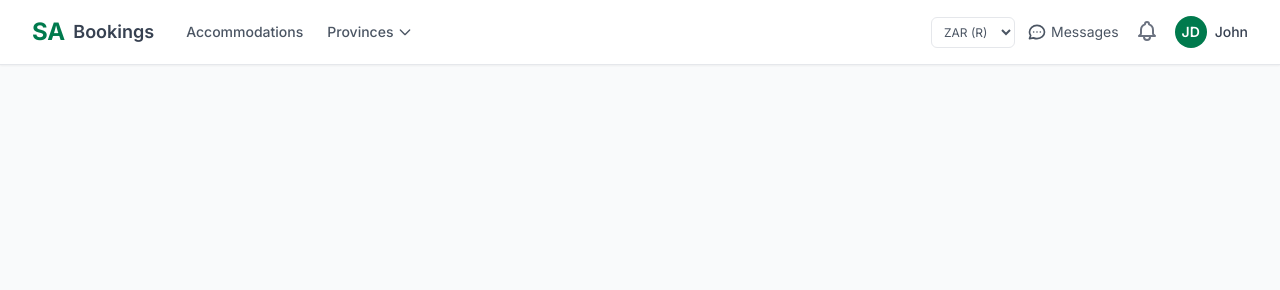
Scenario: Header › should toggle dropdown when avatar is clicked
Check: the text "Dashboard" is not shown
Click the button "JD John" at (1211, 32), box [1175,16,1248,48]
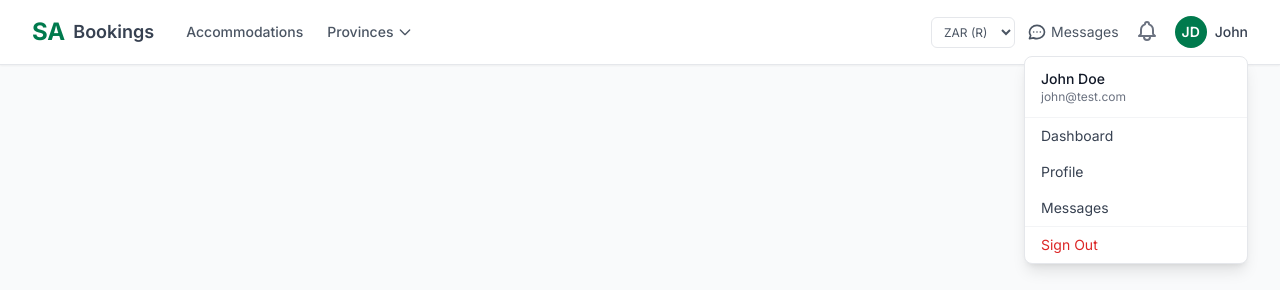
Check: the link "Dashboard" is shown, box [1041,127,1113,144]
Check: the link "Profile" is shown, box [1041,163,1084,180]
Check: the button "Sign Out" is shown, box [1025,227,1247,263]
